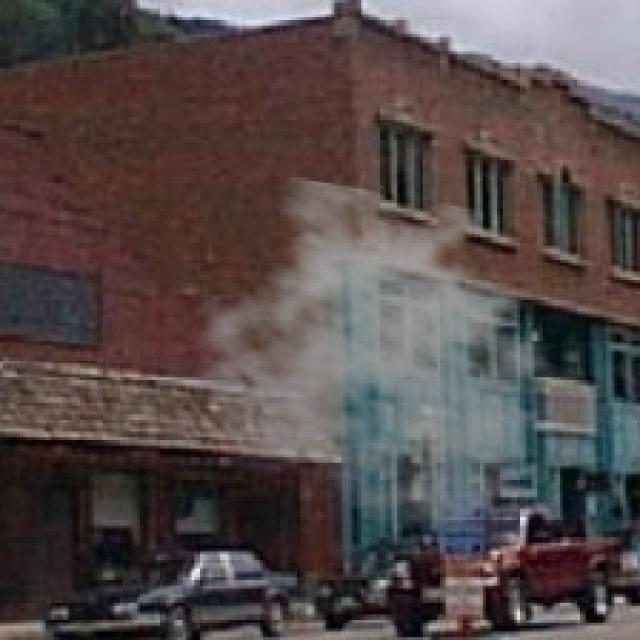smoke: (177, 174, 592, 537)
